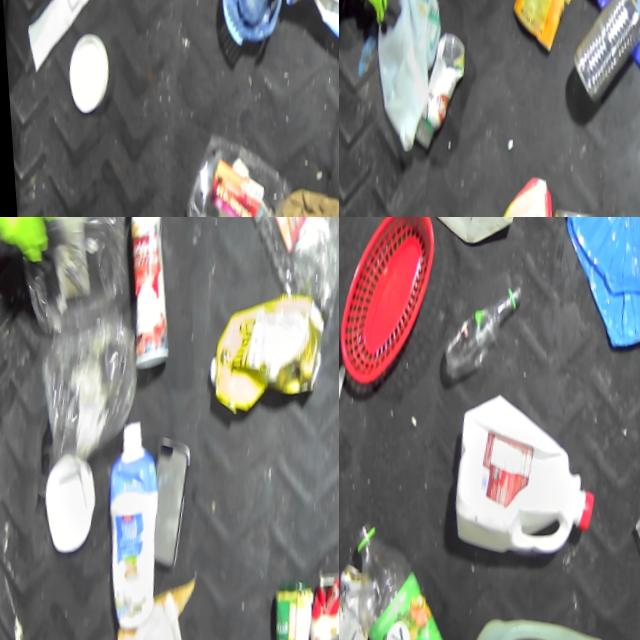can: (560, 0, 640, 120), (506, 0, 582, 49), (295, 564, 339, 640), (254, 583, 310, 640)
milk_jug: (434, 388, 608, 577), (364, 0, 462, 150), (444, 611, 603, 640)
non_white_jug: (197, 283, 331, 428)
plastic_bottle: (339, 517, 456, 640), (438, 274, 524, 387), (240, 217, 339, 291)
